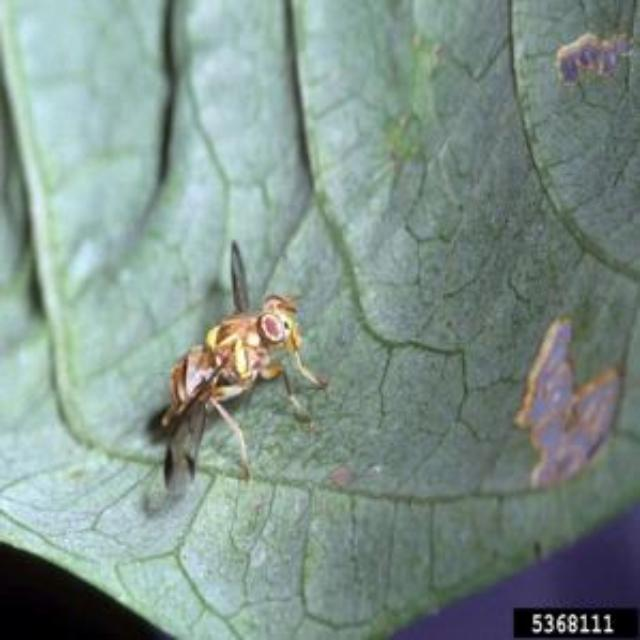melon fly: (90, 222, 340, 502)
